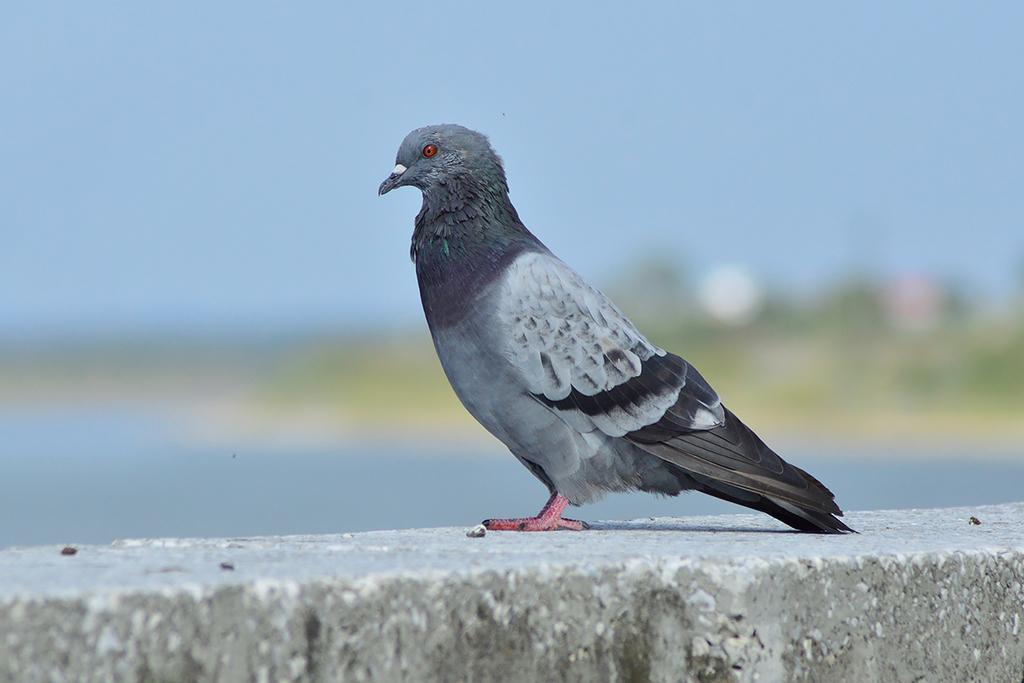Flying Rat: (382, 123, 855, 544)
